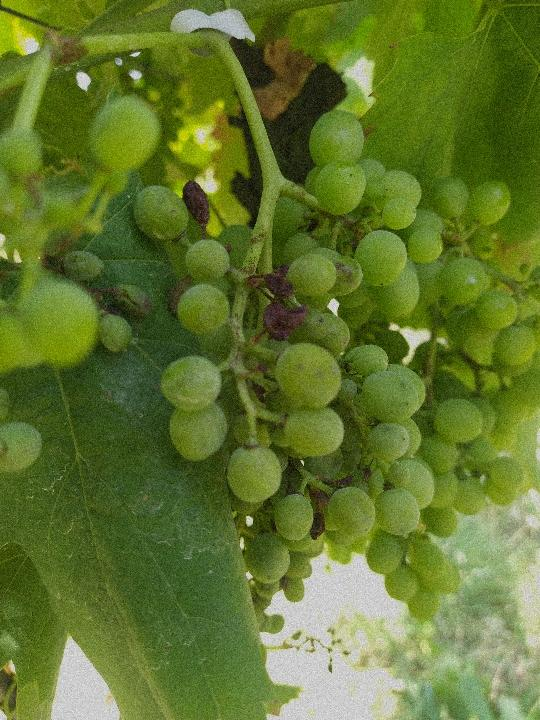grape: (124, 105, 424, 585)
